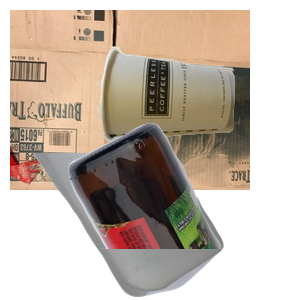cardboard: (10, 10, 250, 190)
glass: (66, 120, 300, 300)
plastic: (29, 153, 245, 300)
trash: (95, 44, 300, 180)
